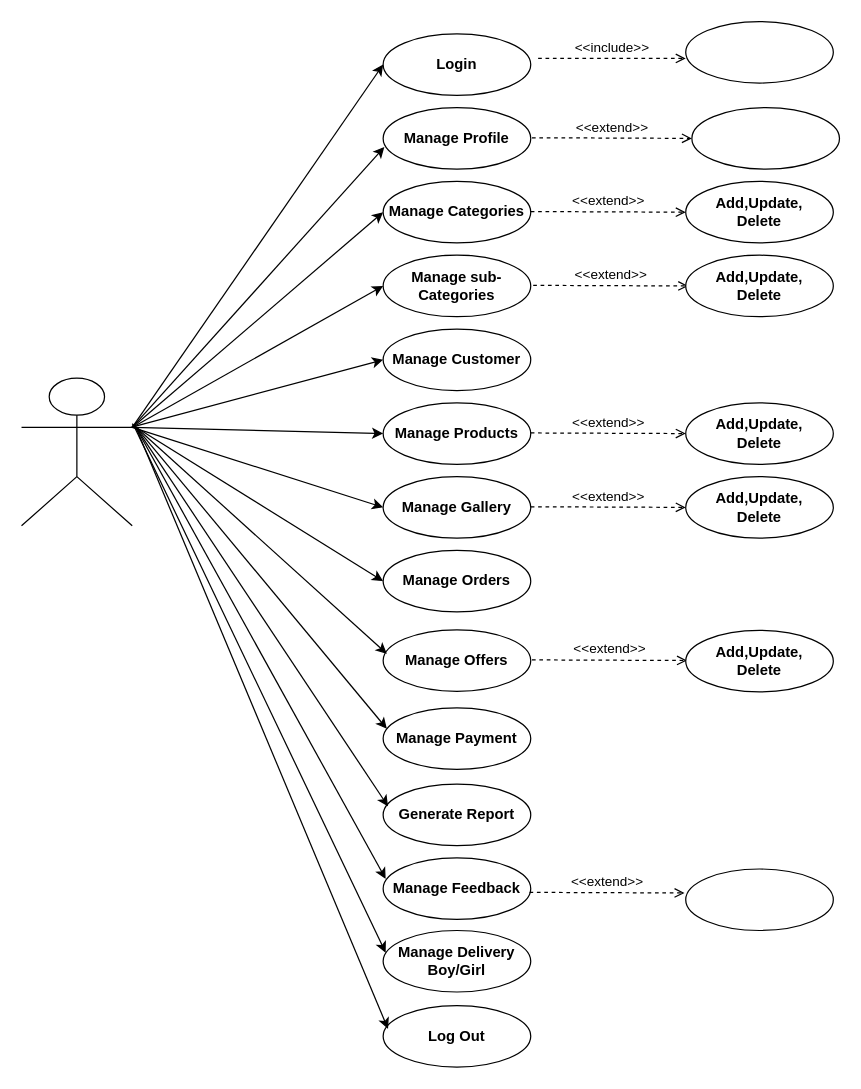
Some shapes in this 861 by 1089 pixel diagram are drawn without their labels. Here are the shapes that lost their labels. From the top down, the box of each, then its label:
(684, 20, 833, 83): Username, Password
(691, 106, 839, 169): Update, delete
(20, 377, 132, 526): Admin
(684, 868, 833, 930): Reply,Delete
